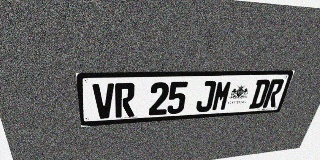2: (149, 82, 170, 115)
5: (167, 81, 188, 114)
D: (249, 79, 271, 109)
J: (195, 81, 217, 112)
M: (211, 80, 233, 111)
R: (115, 83, 135, 118), (262, 79, 285, 108)
V: (92, 83, 115, 119)
